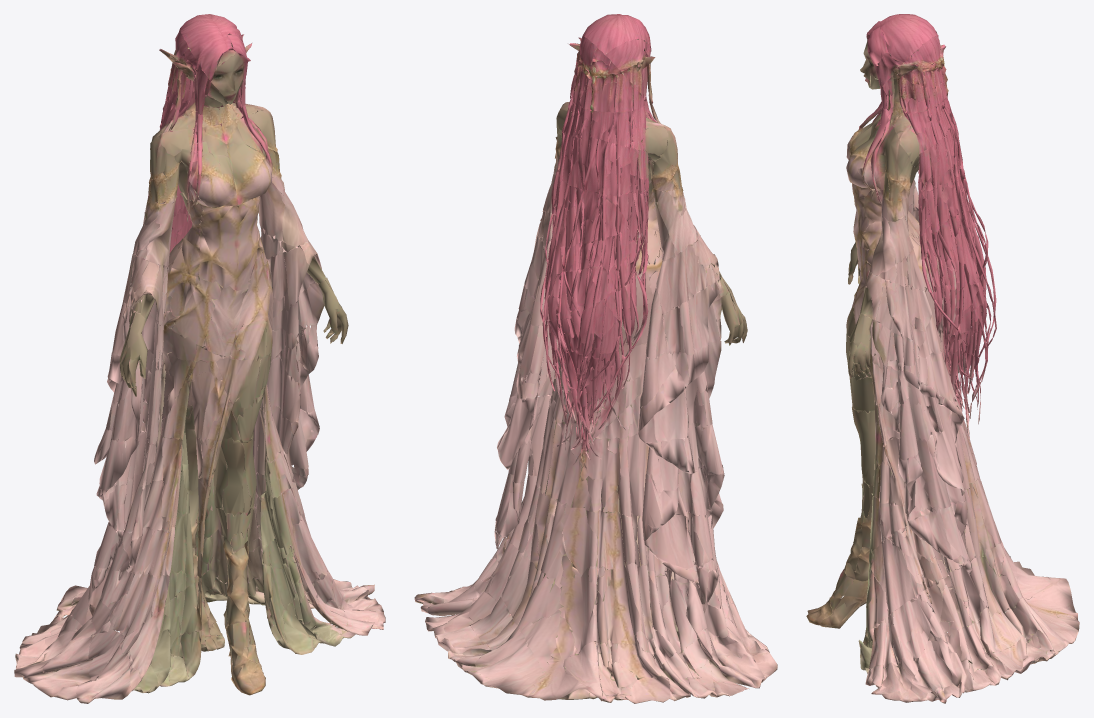
File: kaira_glb_estatico.glb
3 renders of one model, left to right at view 1: azimuth 30°, elevation 25°; view 2: azimuth 150°, elevation 25°; view 3: azimuth 270°, elevation 25°, orthographic. The views are drawn at different scales.
Parts seen in each view (by area): view 1: kaira_src; view 2: kaira_src; view 3: kaira_src.
Boxes of the visible parts, x1,y1,x2,y2 form: kaira_src: [14, 14, 385, 703]; kaira_src: [414, 14, 777, 703]; kaira_src: [806, 14, 1079, 703].
Size of the model in its own units: 1.12 by 1.9 by 0.7775.
Materials: 1 (1 with a texture image).
